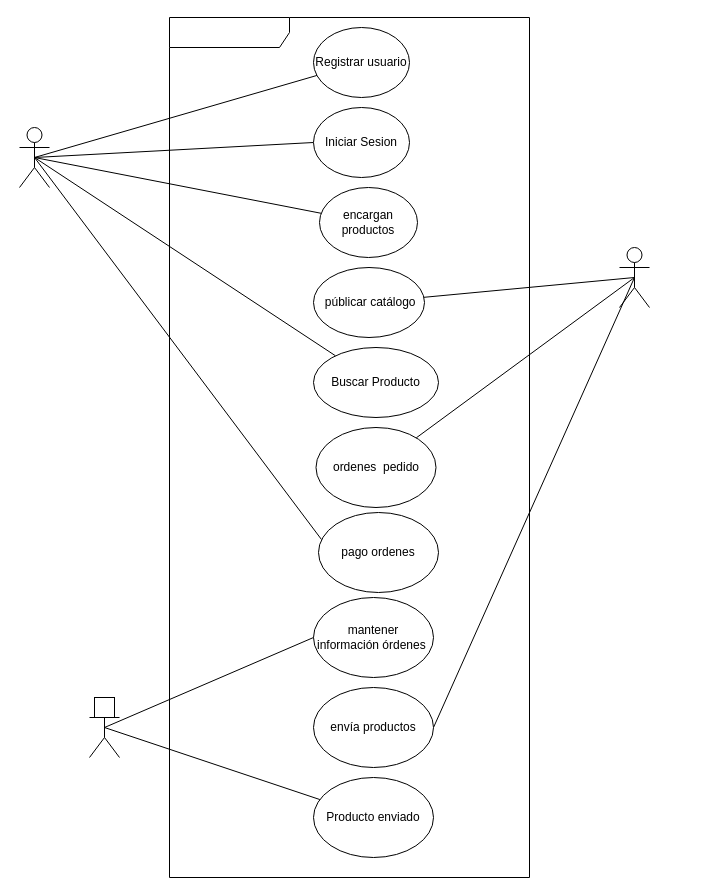
Image size: 703x895. Some labels were removed from this diagram. Here are the shapes that lost their labels. From the top down, the box of each, then its label:
(18, 126, 50, 188): cliente
(618, 246, 650, 308): Gestor/TienaVirtual
(168, 16, 530, 878): Tienda virtual
(88, 696, 120, 758): sistema
